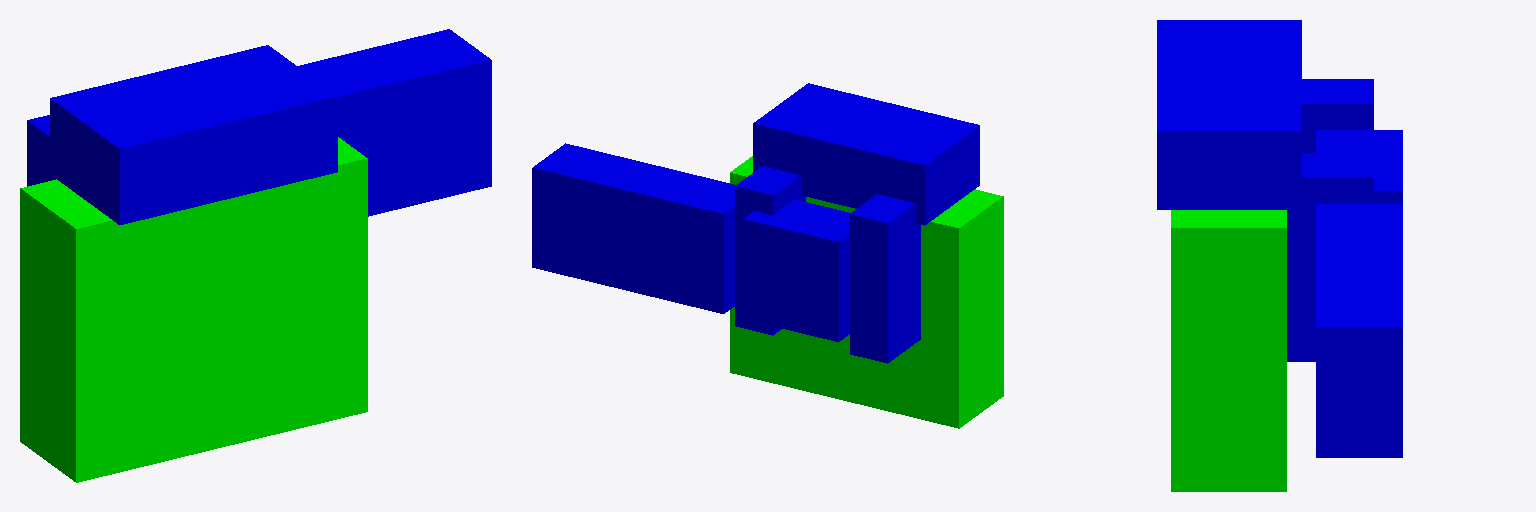
The robot description file, URDF, robot "robot":
<robot name = "robot">
    <link name="root">
        <inertial>
            <origin xyz="0.0 0.0 1.5" rpy="0 0 0"/>
            <mass value="1" />
            <inertia ixx="100" ixy="0" ixz="0" iyy="100" iyz="0" izz="100" />
        </inertial>
        <visual>
            <origin xyz="0.0 0.0 1.5" rpy="0 0 0"/>
            <geometry>
                <box size="0 0 0.0001" />
            </geometry>
            <material name="Green">
                <color rgba="0 1.0 0.0 1.0"/>
            </material>
        </visual>
        <collision>
            <origin xyz="0.0 0.0 1.5" rpy="0 0 0"/>
            <geometry>
                <box size="0 0 0.0001" />
            </geometry>
        </collision>
    </link>
    <joint name="root_000" type="revolute">
       <parent link="root"/>
       <child  link="000"/>
       <origin rpy="0 0 0" xyz="0.0 0.0 1.5" />
     <axis xyz="1 0 0"/>
       <limit effort="0.0" lower="-3.14159" upper="3.14159" velocity="0.0"/>
    </joint>
    <link name="000">
        <inertial>
            <origin xyz="0.15 0.0 0.0" rpy="0 0 0"/>
            <mass value="1" />
            <inertia ixx="100" ixy="0" ixz="0" iyy="100" iyz="0" izz="100" />
        </inertial>
        <visual>
            <origin xyz="0.15 0.0 0.0" rpy="0 0 0"/>
            <geometry>
                <box size="0.3 0.5 0.3" />
            </geometry>
            <material name="Blue">
                <color rgba="0 0.0 1.0 1.0"/>
            </material>
        </visual>
        <collision>
            <origin xyz="0.15 0.0 0.0" rpy="0 0 0"/>
            <geometry>
                <box size="0.3 0.5 0.3" />
            </geometry>
        </collision>
    </link>
    <joint name="000_010" type="revolute">
       <parent link="000"/>
       <child  link="010"/>
       <origin rpy="0 0 0" xyz="0.3 0.0 -0.0" />
     <axis xyz="1 0 0"/>
       <limit effort="0.0" lower="-3.14159" upper="3.14159" velocity="0.0"/>
    </joint>
    <link name="010">
        <inertial>
            <origin xyz="0.15 0.0 -0.0" rpy="0 0 0"/>
            <mass value="1" />
            <inertia ixx="100" ixy="0" ixz="0" iyy="100" iyz="0" izz="100" />
        </inertial>
        <visual>
            <origin xyz="0.15 0.0 -0.0" rpy="0 0 0"/>
            <geometry>
                <box size="0.3 0.5 0.3" />
            </geometry>
            <material name="Blue">
                <color rgba="0 0.0 1.0 1.0"/>
            </material>
        </visual>
        <collision>
            <origin xyz="0.15 0.0 -0.0" rpy="0 0 0"/>
            <geometry>
                <box size="0.3 0.5 0.3" />
            </geometry>
        </collision>
    </link>
    <joint name="010_020" type="revolute">
       <parent link="010"/>
       <child  link="020"/>
       <origin rpy="0 0 0" xyz="0.3 0.0 -0.0" />
     <axis xyz="1 0 0"/>
       <limit effort="0.0" lower="-3.14159" upper="3.14159" velocity="0.0"/>
    </joint>
    <link name="020">
        <inertial>
            <origin xyz="0.15 0.0 -0.0" rpy="0 0 0"/>
            <mass value="1" />
            <inertia ixx="100" ixy="0" ixz="0" iyy="100" iyz="0" izz="100" />
        </inertial>
        <visual>
            <origin xyz="0.15 0.0 -0.0" rpy="0 0 0"/>
            <geometry>
                <box size="0.3 0.5 0.3" />
            </geometry>
            <material name="Blue">
                <color rgba="0 0.0 1.0 1.0"/>
            </material>
        </visual>
        <collision>
            <origin xyz="0.15 0.0 -0.0" rpy="0 0 0"/>
            <geometry>
                <box size="0.3 0.5 0.3" />
            </geometry>
        </collision>
    </link>
    <joint name="020_020-100" type="revolute">
       <parent link="020"/>
       <child  link="020-100"/>
       <origin rpy="0 0 0" xyz="0.15 0.0 -0.15" />
     <axis xyz="0 0 1"/>
       <limit effort="0.0" lower="-3.14159" upper="3.14159" velocity="0.0"/>
    </joint>
    <link name="020-100">
        <inertial>
            <origin xyz="0.0 0.0 -0.25" rpy="0 0 0"/>
            <mass value="1" />
            <inertia ixx="100" ixy="0" ixz="0" iyy="100" iyz="0" izz="100" />
        </inertial>
        <visual>
            <origin xyz="0.0 0.0 -0.25" rpy="0 0 0"/>
            <geometry>
                <box size="0.6 0.4 0.5" />
            </geometry>
            <material name="Green">
                <color rgba="0 1.0 0.0 1.0"/>
            </material>
        </visual>
        <collision>
            <origin xyz="0.0 0.0 -0.25" rpy="0 0 0"/>
            <geometry>
                <box size="0.6 0.4 0.5" />
            </geometry>
        </collision>
    </link>
    <joint name="020-100_020-110" type="revolute">
       <parent link="020-100"/>
       <child  link="020-110"/>
       <origin rpy="0 0 0" xyz="0.0 0.0 -0.5" />
     <axis xyz="0 0 1"/>
       <limit effort="0.0" lower="-3.14159" upper="3.14159" velocity="0.0"/>
    </joint>
    <link name="020-110">
        <inertial>
            <origin xyz="0.0 0.0 -0.25" rpy="0 0 0"/>
            <mass value="1" />
            <inertia ixx="100" ixy="0" ixz="0" iyy="100" iyz="0" izz="100" />
        </inertial>
        <visual>
            <origin xyz="0.0 0.0 -0.25" rpy="0 0 0"/>
            <geometry>
                <box size="0.6 0.4 0.5" />
            </geometry>
            <material name="Green">
                <color rgba="0 1.0 0.0 1.0"/>
            </material>
        </visual>
        <collision>
            <origin xyz="0.0 0.0 -0.25" rpy="0 0 0"/>
            <geometry>
                <box size="0.6 0.4 0.5" />
            </geometry>
        </collision>
    </link>
    <joint name="020-100_020-100-200" type="revolute">
       <parent link="020-100"/>
       <child  link="020-100-200"/>
       <origin rpy="0 0 0" xyz="0.0 0.2 -0.25" />
     <axis xyz="0 1 0"/>
       <limit effort="0.0" lower="-3.14159" upper="3.14159" velocity="0.0"/>
    </joint>
    <link name="020-100-200">
        <inertial>
            <origin xyz="0.0 0.05 -0.0" rpy="0 0 0"/>
            <mass value="1" />
            <inertia ixx="100" ixy="0" ixz="0" iyy="100" iyz="0" izz="100" />
        </inertial>
        <visual>
            <origin xyz="0.0 0.05 -0.0" rpy="0 0 0"/>
            <geometry>
                <box size="0.2 0.1 0.7" />
            </geometry>
            <material name="Blue">
                <color rgba="0 0.0 1.0 1.0"/>
            </material>
        </visual>
        <collision>
            <origin xyz="0.0 0.05 -0.0" rpy="0 0 0"/>
            <geometry>
                <box size="0.2 0.1 0.7" />
            </geometry>
        </collision>
    </link>
    <joint name="020-100-200_020-100-210" type="revolute">
       <parent link="020-100-200"/>
       <child  link="020-100-210"/>
       <origin rpy="0 0 0" xyz="0.0 0.1 -0.0" />
     <axis xyz="0 1 0"/>
       <limit effort="0.0" lower="-3.14159" upper="3.14159" velocity="0.0"/>
    </joint>
    <link name="020-100-210">
        <inertial>
            <origin xyz="0.0 0.05 -0.0" rpy="0 0 0"/>
            <mass value="1" />
            <inertia ixx="100" ixy="0" ixz="0" iyy="100" iyz="0" izz="100" />
        </inertial>
        <visual>
            <origin xyz="0.0 0.05 -0.0" rpy="0 0 0"/>
            <geometry>
                <box size="0.2 0.1 0.7" />
            </geometry>
            <material name="Blue">
                <color rgba="0 0.0 1.0 1.0"/>
            </material>
        </visual>
        <collision>
            <origin xyz="0.0 0.05 -0.0" rpy="0 0 0"/>
            <geometry>
                <box size="0.2 0.1 0.7" />
            </geometry>
        </collision>
    </link>
    <joint name="020-100-210_020-100-220" type="revolute">
       <parent link="020-100-210"/>
       <child  link="020-100-220"/>
       <origin rpy="0 0 0" xyz="0.0 0.1 -0.0" />
     <axis xyz="0 1 0"/>
       <limit effort="0.0" lower="-3.14159" upper="3.14159" velocity="0.0"/>
    </joint>
    <link name="020-100-220">
        <inertial>
            <origin xyz="0.0 0.05 -0.0" rpy="0 0 0"/>
            <mass value="1" />
            <inertia ixx="100" ixy="0" ixz="0" iyy="100" iyz="0" izz="100" />
        </inertial>
        <visual>
            <origin xyz="0.0 0.05 -0.0" rpy="0 0 0"/>
            <geometry>
                <box size="0.2 0.1 0.7" />
            </geometry>
            <material name="Blue">
                <color rgba="0 0.0 1.0 1.0"/>
            </material>
        </visual>
        <collision>
            <origin xyz="0.0 0.05 -0.0" rpy="0 0 0"/>
            <geometry>
                <box size="0.2 0.1 0.7" />
            </geometry>
        </collision>
    </link>
    <joint name="020-100-220_020-100-220-300" type="revolute">
       <parent link="020-100-220"/>
       <child  link="020-100-220-300"/>
       <origin rpy="0 0 0" xyz="0.1 0.05 -0.0" />
     <axis xyz="1 0 0"/>
       <limit effort="0.0" lower="-3.14159" upper="3.14159" velocity="0.0"/>
    </joint>
    <link name="020-100-220-300">
        <inertial>
            <origin xyz="0.25 0.0 -0.0" rpy="0 0 0"/>
            <mass value="1" />
            <inertia ixx="100" ixy="0" ixz="0" iyy="100" iyz="0" izz="100" />
        </inertial>
        <visual>
            <origin xyz="0.25 0.0 -0.0" rpy="0 0 0"/>
            <geometry>
                <box size="0.5 0.3 0.5" />
            </geometry>
            <material name="Blue">
                <color rgba="0 0.0 1.0 1.0"/>
            </material>
        </visual>
        <collision>
            <origin xyz="0.25 0.0 -0.0" rpy="0 0 0"/>
            <geometry>
                <box size="0.5 0.3 0.5" />
            </geometry>
        </collision>
    </link>
    <joint name="020-100-220-300_020-100-220-310" type="revolute">
       <parent link="020-100-220-300"/>
       <child  link="020-100-220-310"/>
       <origin rpy="0 0 0" xyz="0.5 0.0 -0.0" />
     <axis xyz="1 0 0"/>
       <limit effort="0.0" lower="-3.14159" upper="3.14159" velocity="0.0"/>
    </joint>
    <link name="020-100-220-310">
        <inertial>
            <origin xyz="0.25 0.0 -0.0" rpy="0 0 0"/>
            <mass value="1" />
            <inertia ixx="100" ixy="0" ixz="0" iyy="100" iyz="0" izz="100" />
        </inertial>
        <visual>
            <origin xyz="0.25 0.0 -0.0" rpy="0 0 0"/>
            <geometry>
                <box size="0.5 0.3 0.5" />
            </geometry>
            <material name="Blue">
                <color rgba="0 0.0 1.0 1.0"/>
            </material>
        </visual>
        <collision>
            <origin xyz="0.25 0.0 -0.0" rpy="0 0 0"/>
            <geometry>
                <box size="0.5 0.3 0.5" />
            </geometry>
        </collision>
    </link>
    <joint name="000_000-100" type="revolute">
       <parent link="000"/>
       <child  link="000-100"/>
       <origin rpy="0 0 0" xyz="0.15 0.0 -0.15" />
     <axis xyz="0 0 1"/>
       <limit effort="0.0" lower="-3.14159" upper="3.14159" velocity="0.0"/>
    </joint>
    <link name="000-100">
        <inertial>
            <origin xyz="0.0 0.0 -0.25" rpy="0 0 0"/>
            <mass value="1" />
            <inertia ixx="100" ixy="0" ixz="0" iyy="100" iyz="0" izz="100" />
        </inertial>
        <visual>
            <origin xyz="0.0 0.0 -0.25" rpy="0 0 0"/>
            <geometry>
                <box size="0.6 0.4 0.5" />
            </geometry>
            <material name="Green">
                <color rgba="0 1.0 0.0 1.0"/>
            </material>
        </visual>
        <collision>
            <origin xyz="0.0 0.0 -0.25" rpy="0 0 0"/>
            <geometry>
                <box size="0.6 0.4 0.5" />
            </geometry>
        </collision>
    </link>
    <joint name="000-100_000-110" type="revolute">
       <parent link="000-100"/>
       <child  link="000-110"/>
       <origin rpy="0 0 0" xyz="0.0 0.0 -0.5" />
     <axis xyz="0 0 1"/>
       <limit effort="0.0" lower="-3.14159" upper="3.14159" velocity="0.0"/>
    </joint>
    <link name="000-110">
        <inertial>
            <origin xyz="0.0 0.0 -0.25" rpy="0 0 0"/>
            <mass value="1" />
            <inertia ixx="100" ixy="0" ixz="0" iyy="100" iyz="0" izz="100" />
        </inertial>
        <visual>
            <origin xyz="0.0 0.0 -0.25" rpy="0 0 0"/>
            <geometry>
                <box size="0.6 0.4 0.5" />
            </geometry>
            <material name="Green">
                <color rgba="0 1.0 0.0 1.0"/>
            </material>
        </visual>
        <collision>
            <origin xyz="0.0 0.0 -0.25" rpy="0 0 0"/>
            <geometry>
                <box size="0.6 0.4 0.5" />
            </geometry>
        </collision>
    </link>
    <joint name="000-100_000-100-200" type="revolute">
       <parent link="000-100"/>
       <child  link="000-100-200"/>
       <origin rpy="0 0 0" xyz="0.0 0.2 -0.25" />
     <axis xyz="0 1 0"/>
       <limit effort="0.0" lower="-3.14159" upper="3.14159" velocity="0.0"/>
    </joint>
    <link name="000-100-200">
        <inertial>
            <origin xyz="0.0 0.05 -0.0" rpy="0 0 0"/>
            <mass value="1" />
            <inertia ixx="100" ixy="0" ixz="0" iyy="100" iyz="0" izz="100" />
        </inertial>
        <visual>
            <origin xyz="0.0 0.05 -0.0" rpy="0 0 0"/>
            <geometry>
                <box size="0.2 0.1 0.7" />
            </geometry>
            <material name="Blue">
                <color rgba="0 0.0 1.0 1.0"/>
            </material>
        </visual>
        <collision>
            <origin xyz="0.0 0.05 -0.0" rpy="0 0 0"/>
            <geometry>
                <box size="0.2 0.1 0.7" />
            </geometry>
        </collision>
    </link>
    <joint name="000-100-200_000-100-210" type="revolute">
       <parent link="000-100-200"/>
       <child  link="000-100-210"/>
       <origin rpy="0 0 0" xyz="0.0 0.1 -0.0" />
     <axis xyz="0 1 0"/>
       <limit effort="0.0" lower="-3.14159" upper="3.14159" velocity="0.0"/>
    </joint>
    <link name="000-100-210">
        <inertial>
            <origin xyz="0.0 0.05 -0.0" rpy="0 0 0"/>
            <mass value="1" />
            <inertia ixx="100" ixy="0" ixz="0" iyy="100" iyz="0" izz="100" />
        </inertial>
        <visual>
            <origin xyz="0.0 0.05 -0.0" rpy="0 0 0"/>
            <geometry>
                <box size="0.2 0.1 0.7" />
            </geometry>
            <material name="Blue">
                <color rgba="0 0.0 1.0 1.0"/>
            </material>
        </visual>
        <collision>
            <origin xyz="0.0 0.05 -0.0" rpy="0 0 0"/>
            <geometry>
                <box size="0.2 0.1 0.7" />
            </geometry>
        </collision>
    </link>
    <joint name="000-100-210_000-100-220" type="revolute">
       <parent link="000-100-210"/>
       <child  link="000-100-220"/>
       <origin rpy="0 0 0" xyz="0.0 0.1 -0.0" />
     <axis xyz="0 1 0"/>
       <limit effort="0.0" lower="-3.14159" upper="3.14159" velocity="0.0"/>
    </joint>
    <link name="000-100-220">
        <inertial>
            <origin xyz="0.0 0.05 -0.0" rpy="0 0 0"/>
            <mass value="1" />
            <inertia ixx="100" ixy="0" ixz="0" iyy="100" iyz="0" izz="100" />
        </inertial>
        <visual>
            <origin xyz="0.0 0.05 -0.0" rpy="0 0 0"/>
            <geometry>
                <box size="0.2 0.1 0.7" />
            </geometry>
            <material name="Blue">
                <color rgba="0 0.0 1.0 1.0"/>
            </material>
        </visual>
        <collision>
            <origin xyz="0.0 0.05 -0.0" rpy="0 0 0"/>
            <geometry>
                <box size="0.2 0.1 0.7" />
            </geometry>
        </collision>
    </link>
    <joint name="000-100-220_000-100-220-300" type="revolute">
       <parent link="000-100-220"/>
       <child  link="000-100-220-300"/>
       <origin rpy="0 0 0" xyz="0.1 0.05 -0.0" />
     <axis xyz="1 0 0"/>
       <limit effort="0.0" lower="-3.14159" upper="3.14159" velocity="0.0"/>
    </joint>
    <link name="000-100-220-300">
        <inertial>
            <origin xyz="0.25 0.0 -0.0" rpy="0 0 0"/>
            <mass value="1" />
            <inertia ixx="100" ixy="0" ixz="0" iyy="100" iyz="0" izz="100" />
        </inertial>
        <visual>
            <origin xyz="0.25 0.0 -0.0" rpy="0 0 0"/>
            <geometry>
                <box size="0.5 0.3 0.5" />
            </geometry>
            <material name="Blue">
                <color rgba="0 0.0 1.0 1.0"/>
            </material>
        </visual>
        <collision>
            <origin xyz="0.25 0.0 -0.0" rpy="0 0 0"/>
            <geometry>
                <box size="0.5 0.3 0.5" />
            </geometry>
        </collision>
    </link>
</robot>

--- What the picture shows (computed from the rendered views, not written in the file) ---
The picture shows the robot from 3 angles, left to right: view 1: azimuth 30°, elevation 25°; view 2: azimuth 150°, elevation 25°; view 3: azimuth 270°, elevation 25°; orthographic projection.
Robot: robot — 17 links, 16 joints (16 revolute); root link root; default pose: every joint at zero.
Links seen in each view (by area): view 1: 000-100, 000-110, [phone redacted] (×3), 020-110, 020-100, 000, 020, 010; view 2: [phone redacted] (×8), 000-110, 000-100, 000, 010, 020-110, 020, 020-100; view 3: [phone redacted] (×9), 020-100, 020, 020-110, 000, 010.
Boxes of the visible links, x1,y1,x2,y2 form: 000-100: (20,179,221,355); 000-110: (20,315,221,482); [phone redacted] (×3): (27,29,491,216); 020-110: (222,285,367,446); 020-100: (222,137,367,320); 000: (50,80,192,224); 020: (196,45,337,189); 010: (123,63,264,207); [phone redacted] (×8): (532,143,920,363); 000-110: (845,296,1003,428); 000-100: (845,189,1003,328); 000: (868,111,979,225); 010: (810,97,921,208); 020-110: (730,307,844,400); 020: (753,83,864,196); 020-100: (730,156,844,210); [phone redacted] (×9): (1287,79,1402,457); 020-100: (1171,210,1286,359); 020: (1157,94,1301,209); 020-110: (1171,360,1286,491); 000: (1157,20,1301,56); 010: (1157,57,1301,93).
Size in the robot's own frame: 2 by 0.85 by 1.3 metres.
Geometry: primitives only (box / cylinder / sphere), no mesh files.
